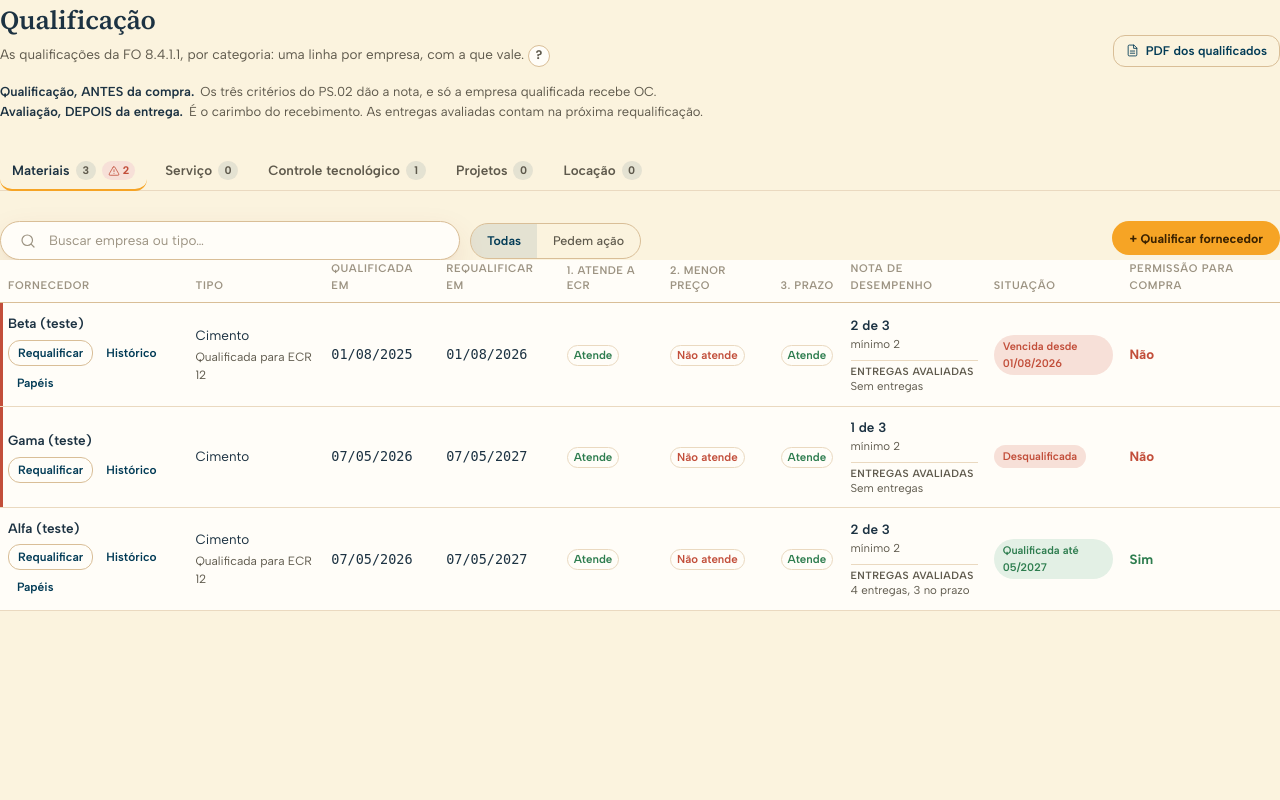
Scenario: CTO-D661 — qualificar e requalificar, com o mesmo diálogo › "+ Qualificar fornecedor": escolhe a empresa pela busca; quem tem linha é "Requalificar"
Click the button "+ Qualificar fornecedor" at (1196, 238), box top-left (1112, 221), bottom-right (1279, 255)
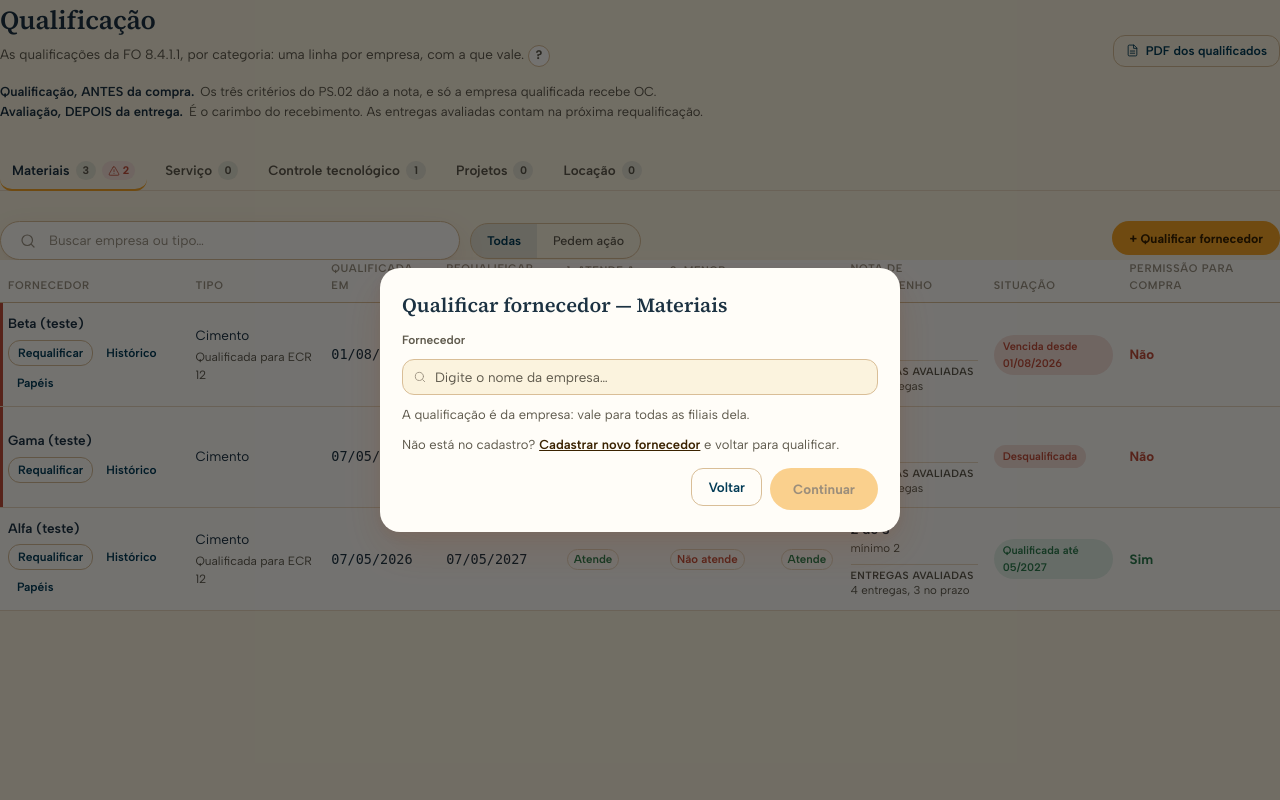
Expected: the element that starts with "Qualificar fornecedor —" shows "Qualificar fornecedor — Materiais", top-left (380, 268), bottom-right (900, 532)
Type "Beta" into the dropdown at (640, 377), box top-left (402, 359), bottom-right (878, 395)
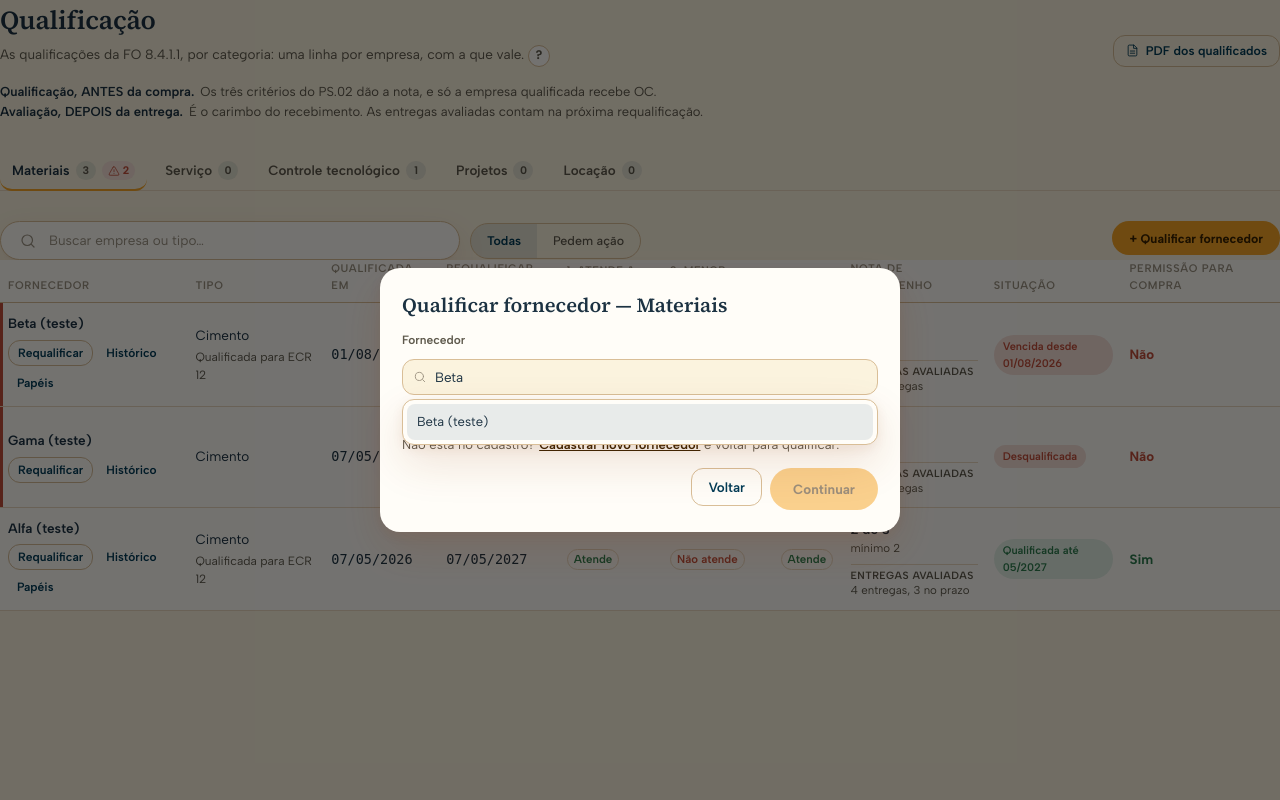
Press Enter in the dropdown, box top-left (402, 359), bottom-right (878, 395)
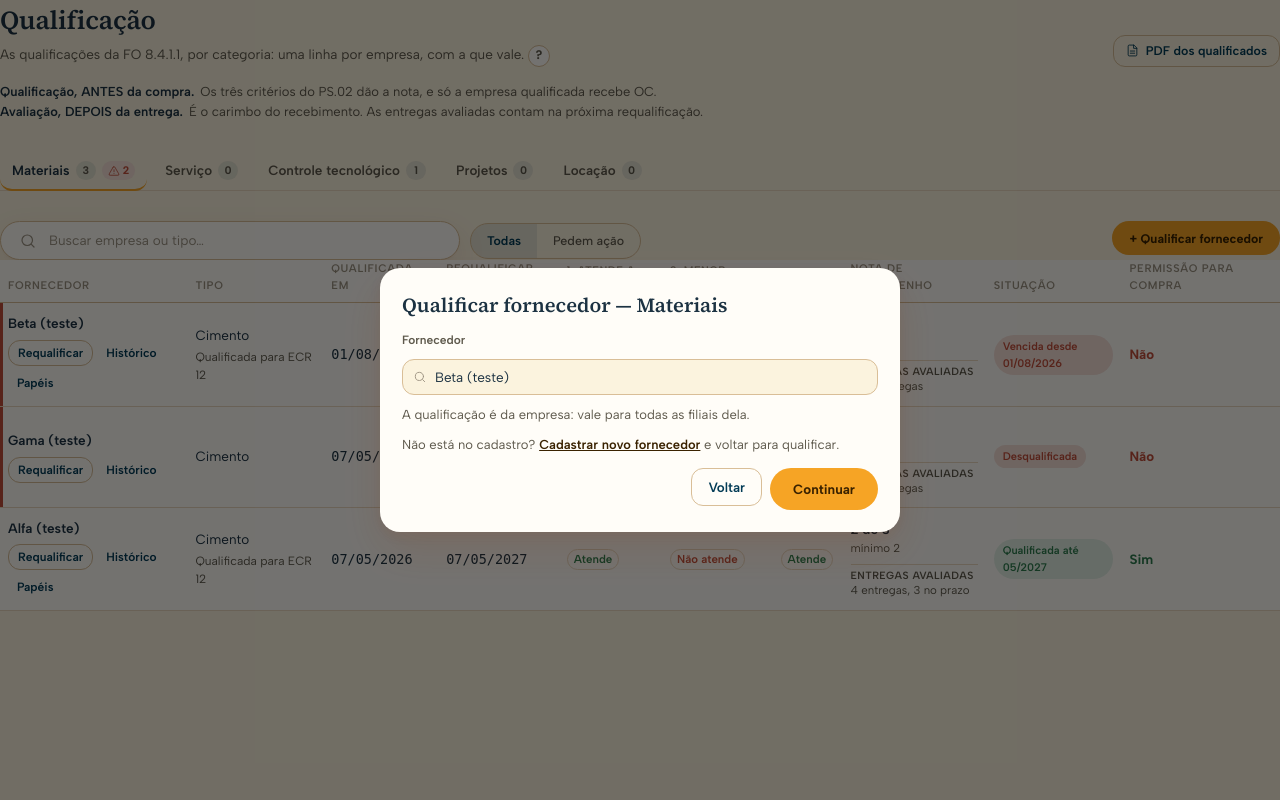
Click the button "Continuar" at (824, 489), box top-left (770, 468), bottom-right (878, 510)
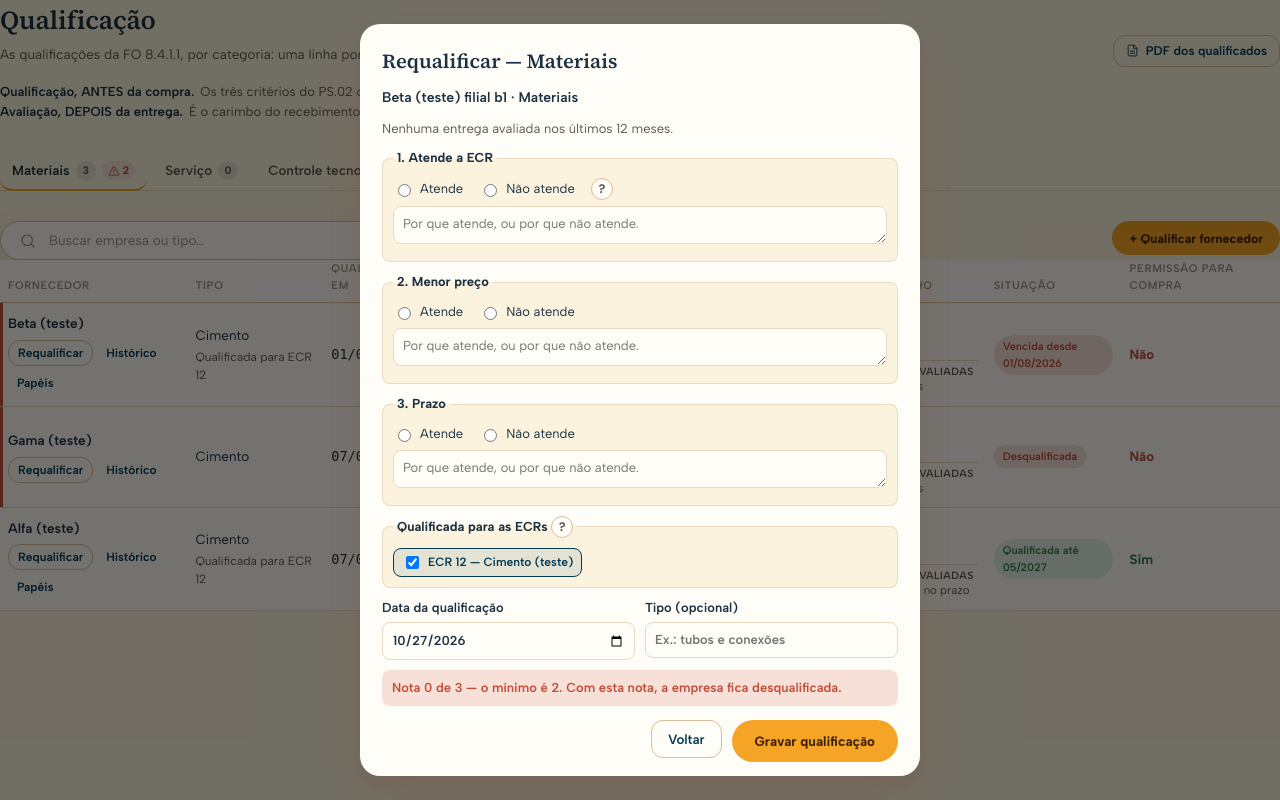
Expected: the heading "Requalificar — Materiais" is shown, top-left (382, 47), bottom-right (617, 75)
